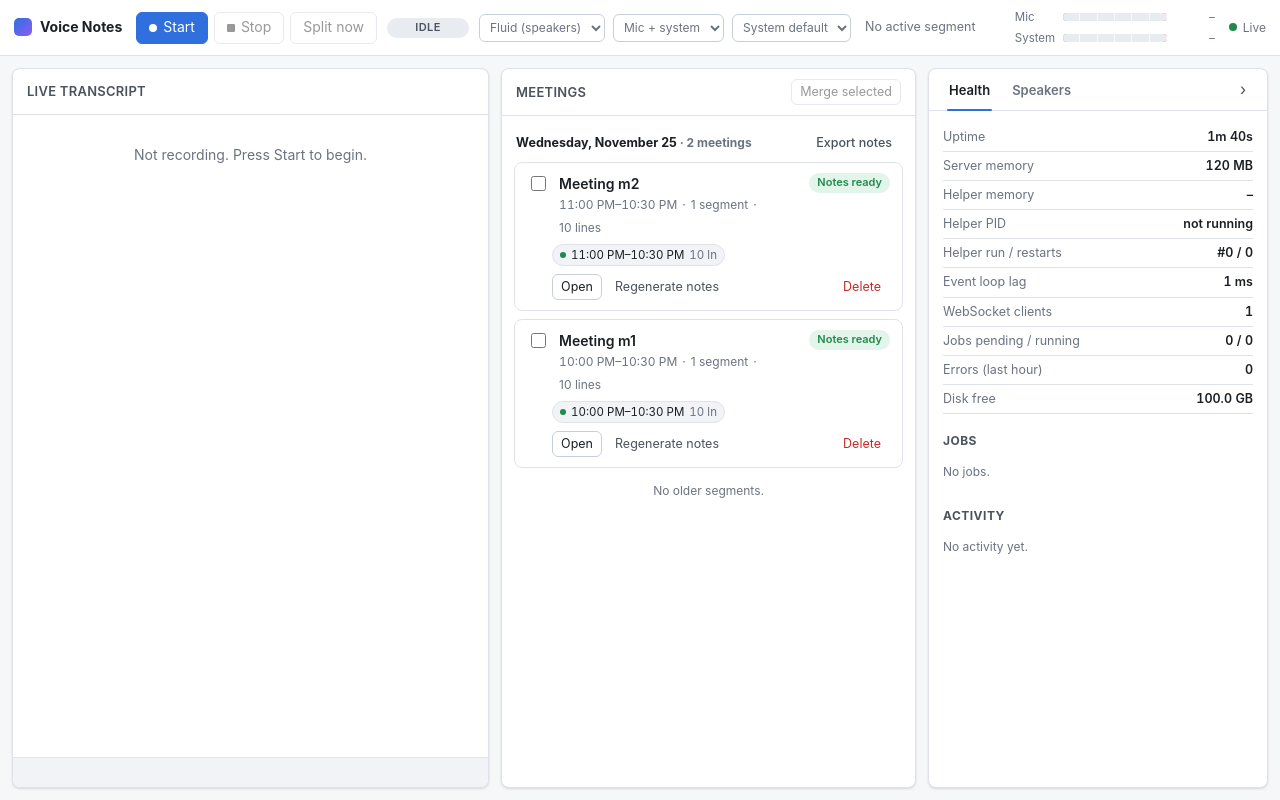
App › enables merge with two selections and surfaces API errors as a toast
The width and height of the screenshot is (1280, 800).
expect the button with test id "merge-btn" is disabled: met, box x1=791 y1=79 x2=901 y2=105
What coordinates should you click on to do the following:
click the 1st checkbox with test id "meeting-select"
I would click on:
 (539, 184)
Its box is x1=531 y1=176 x2=546 y2=191.
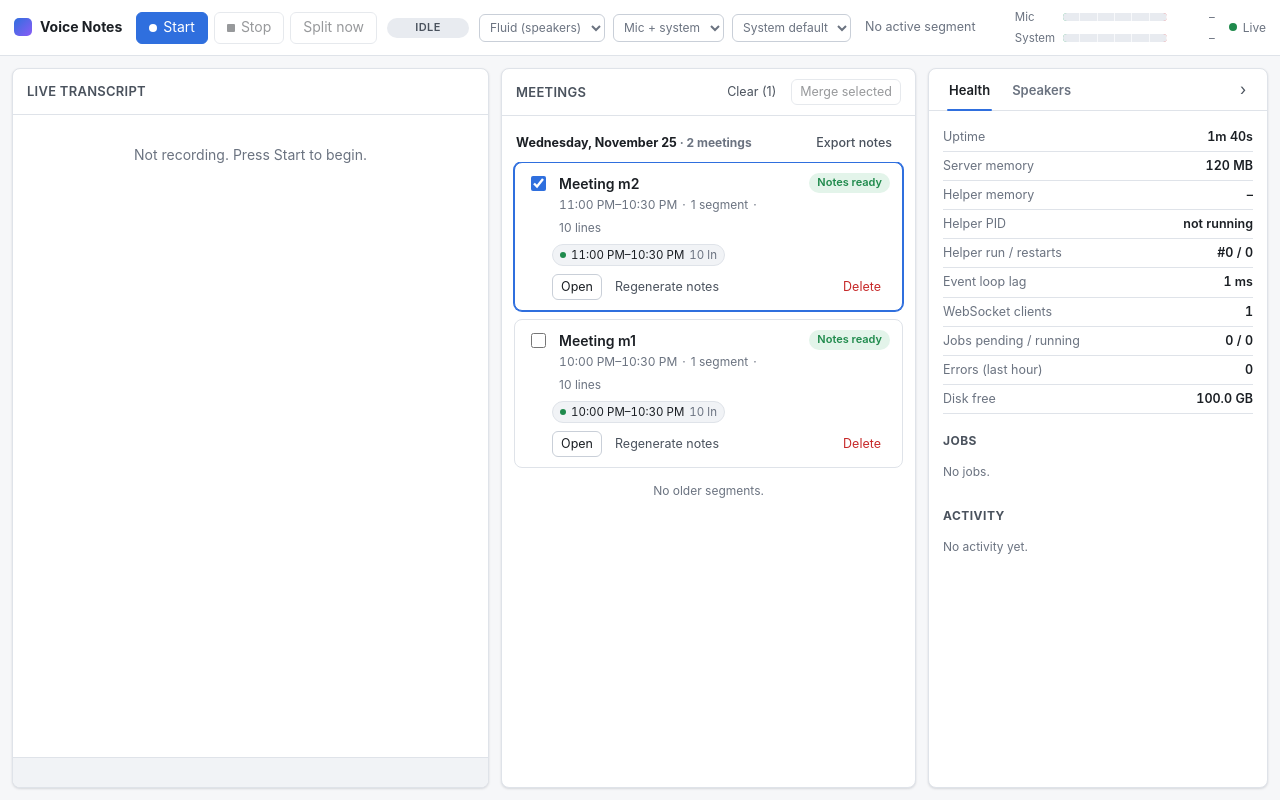
What coordinates should you click on to do the following:
click the 2nd checkbox with test id "meeting-select"
I would click on:
 (539, 341)
Its box is x1=531 y1=333 x2=546 y2=348.
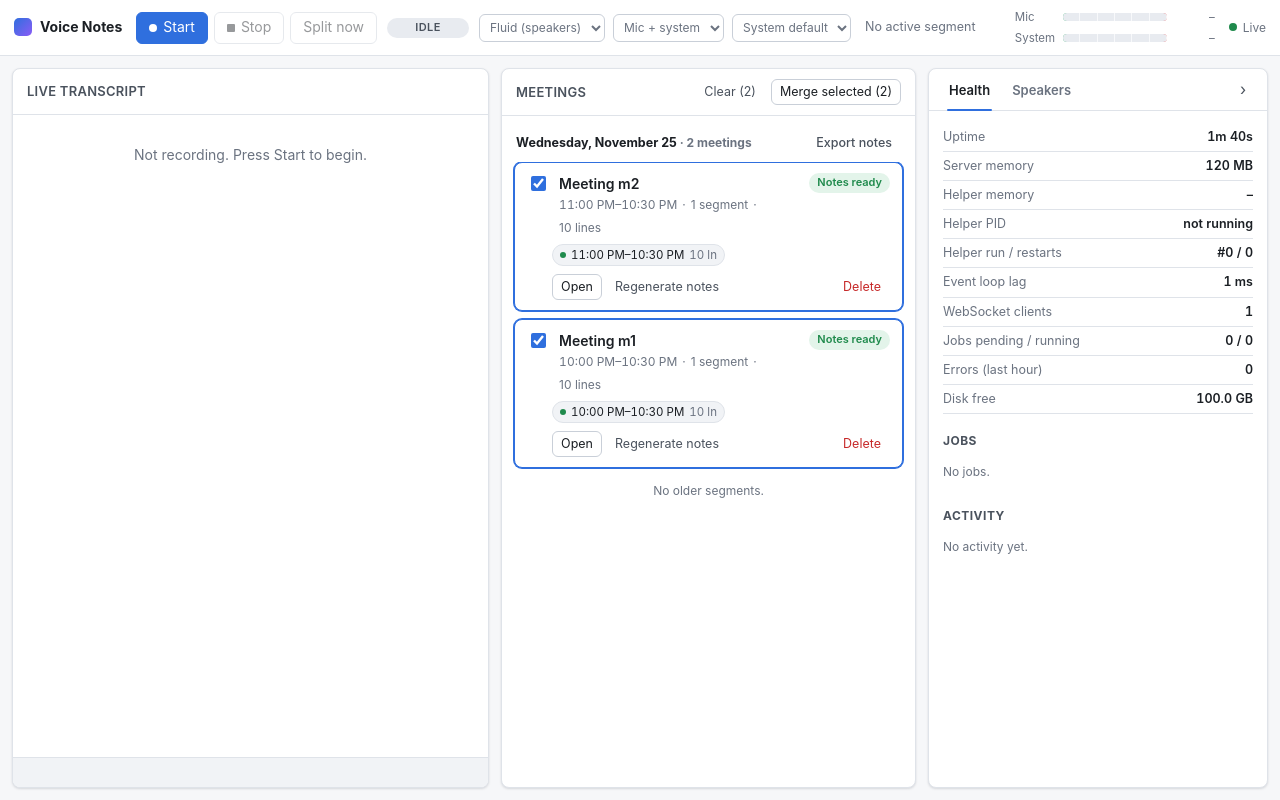
expect the button with test id "merge-btn" is enabled: met
What coordinates should you click on to do the following:
click the button with test id "merge-btn"
I would click on:
 (836, 92)
Its box is x1=771 y1=79 x2=901 y2=105.
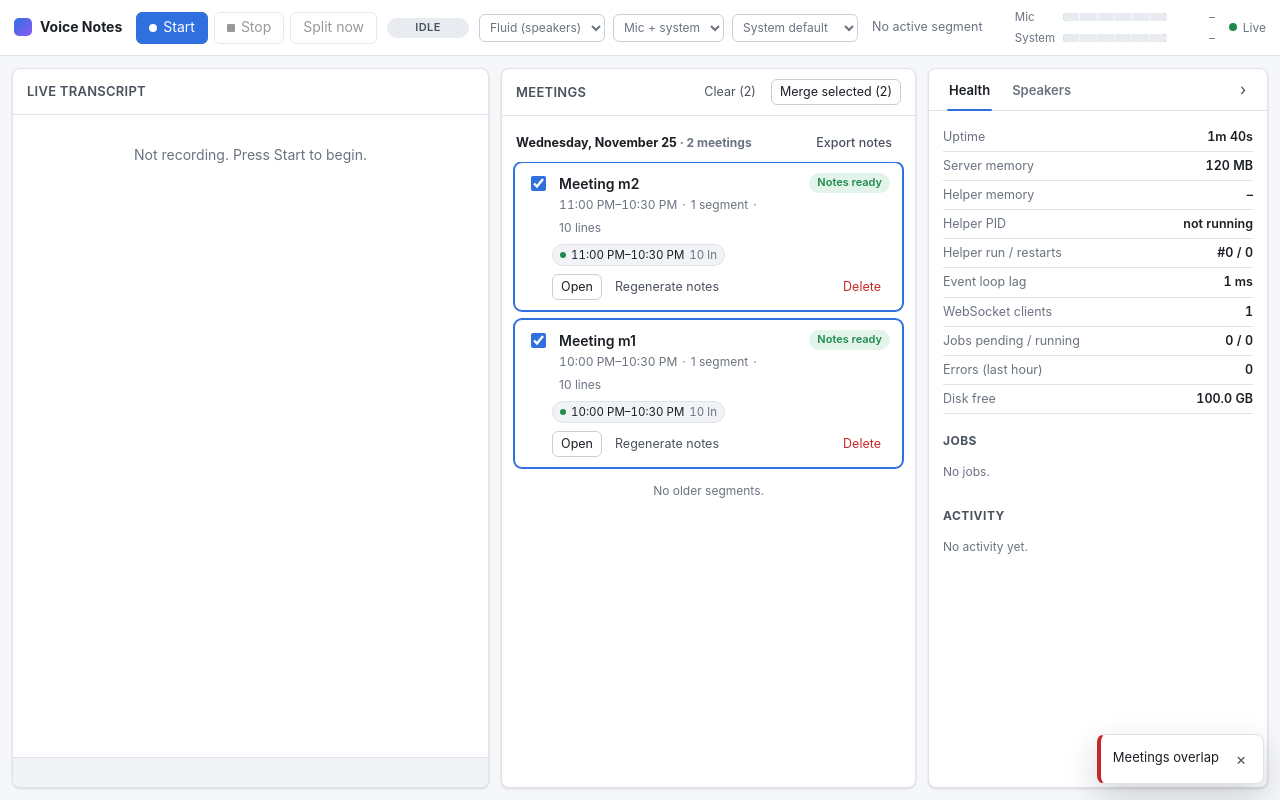
expect the message with test id "toast" shows "Meetings overlap": met, box x1=1113 y1=749 x2=1219 y2=765
